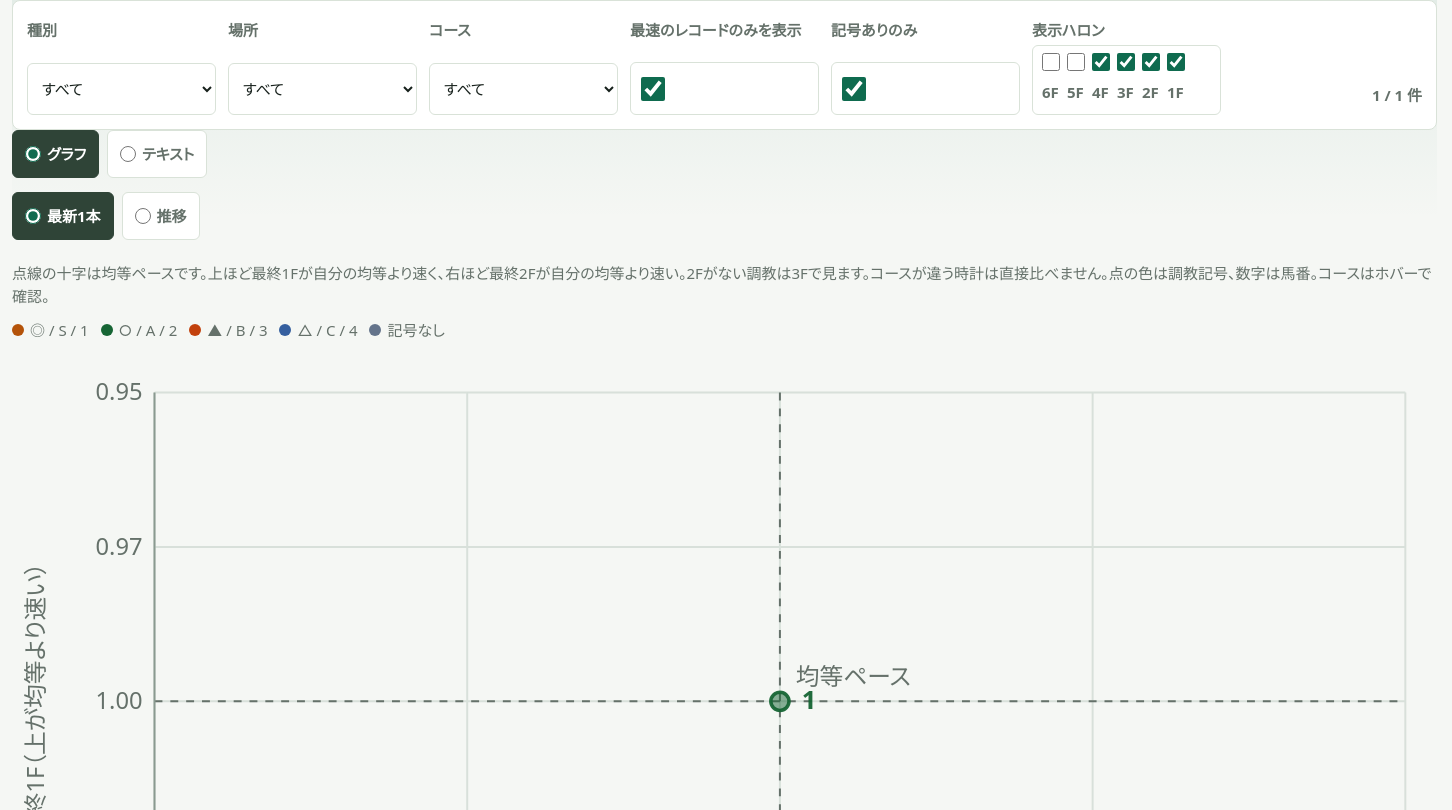
Test: keeps a training view toggle made before preference load finishes
The image size is (1452, 810).
Click the radio button labelled "テキスト".
click(128, 154)  # box [120,146,136,162]
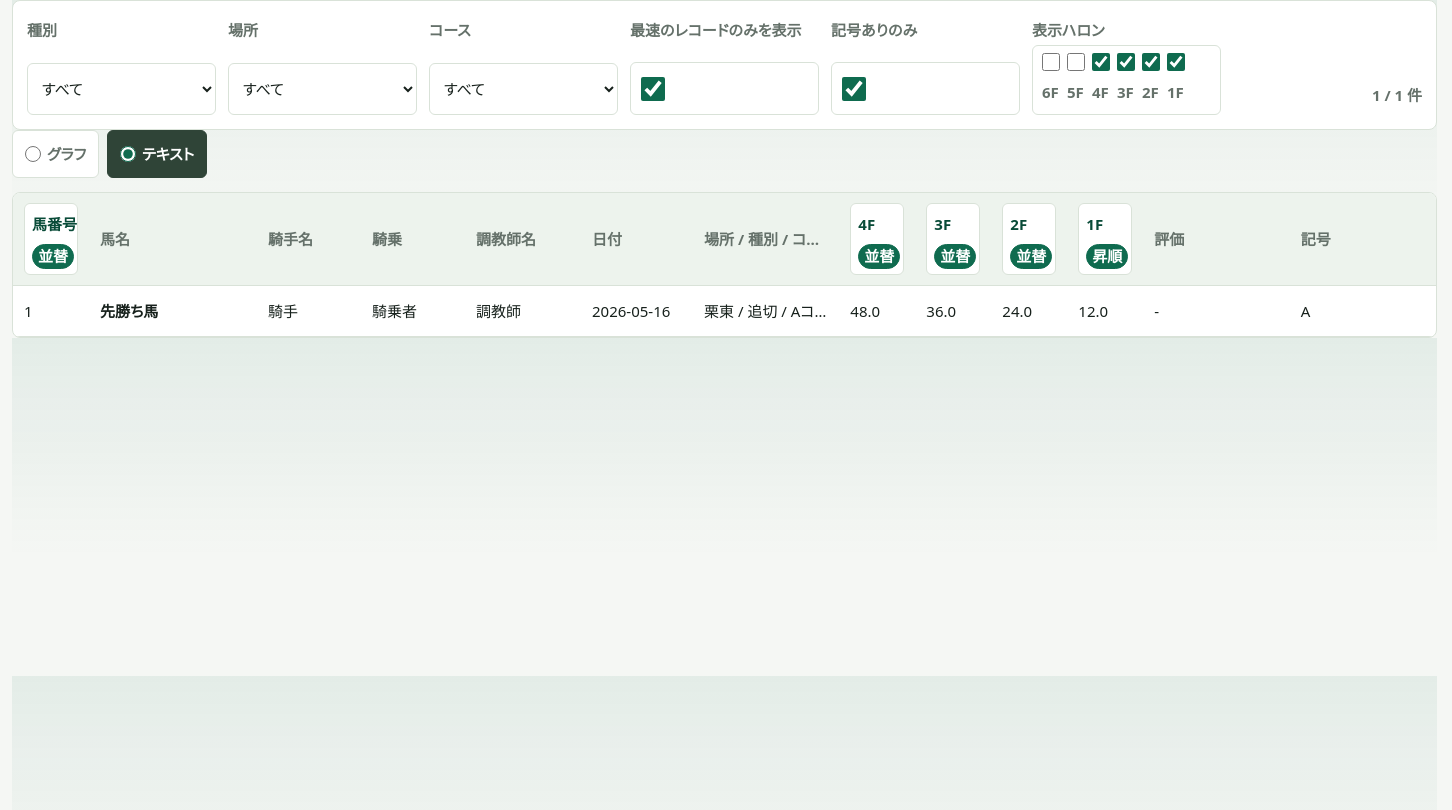
Expected: the column heading "馬名" is shown, [89,193,257,286]
